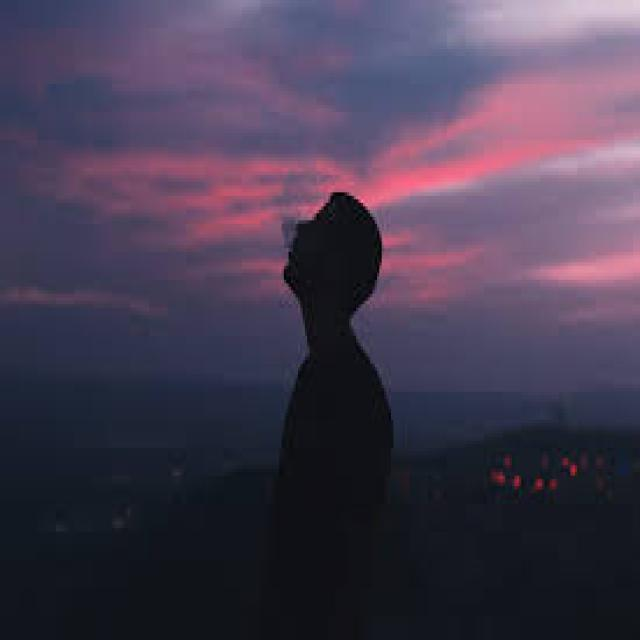head: (286, 189, 382, 322)
